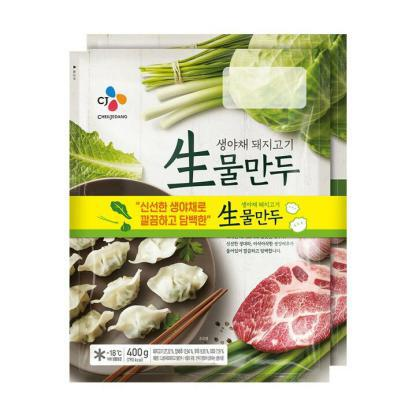pork: (239, 259, 333, 352)
